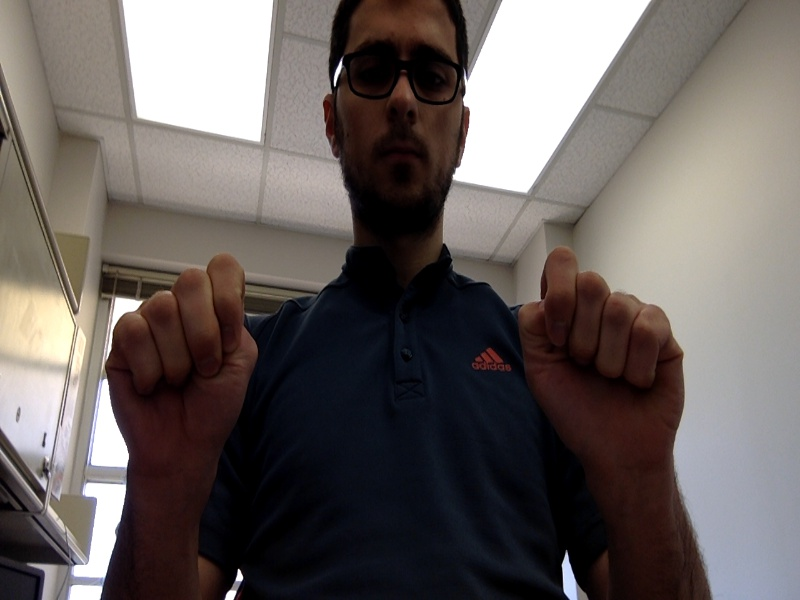0-hand: (521, 247, 683, 479), (107, 256, 257, 468)
